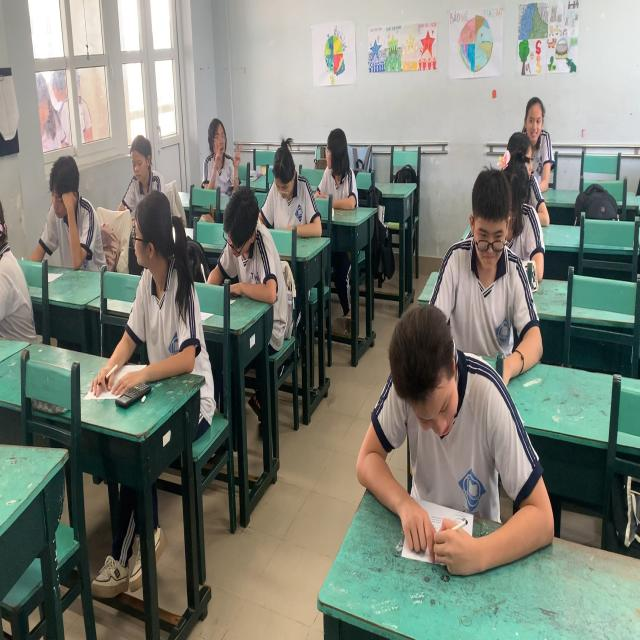cheating: (126, 186, 202, 375), (314, 116, 359, 214), (198, 110, 240, 188)
not_cheating: (358, 307, 528, 559), (449, 169, 532, 372), (211, 179, 283, 303), (46, 158, 97, 272), (264, 134, 312, 237), (518, 93, 554, 182), (124, 130, 163, 196)
